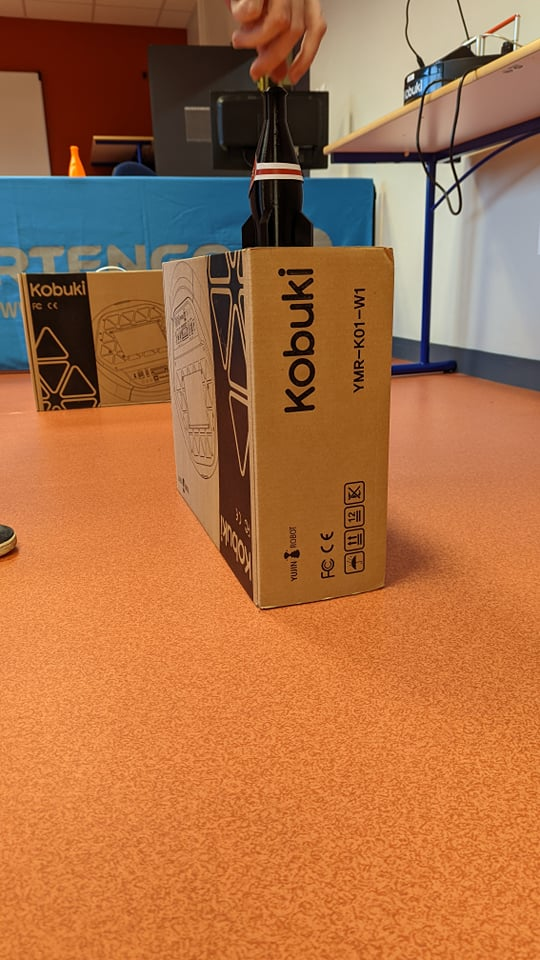bottle: (236, 80, 319, 254)
